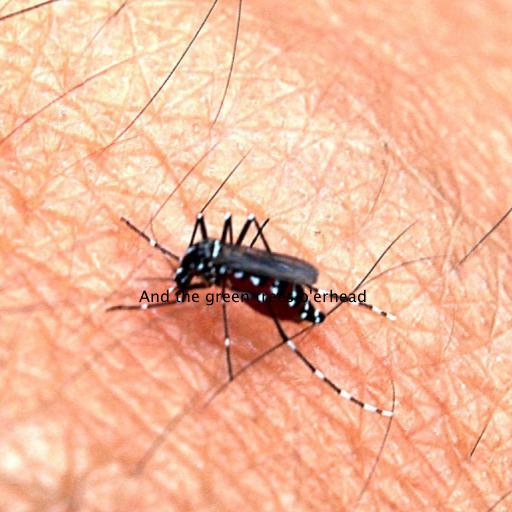Lucida Grande: (139, 289, 367, 306)
